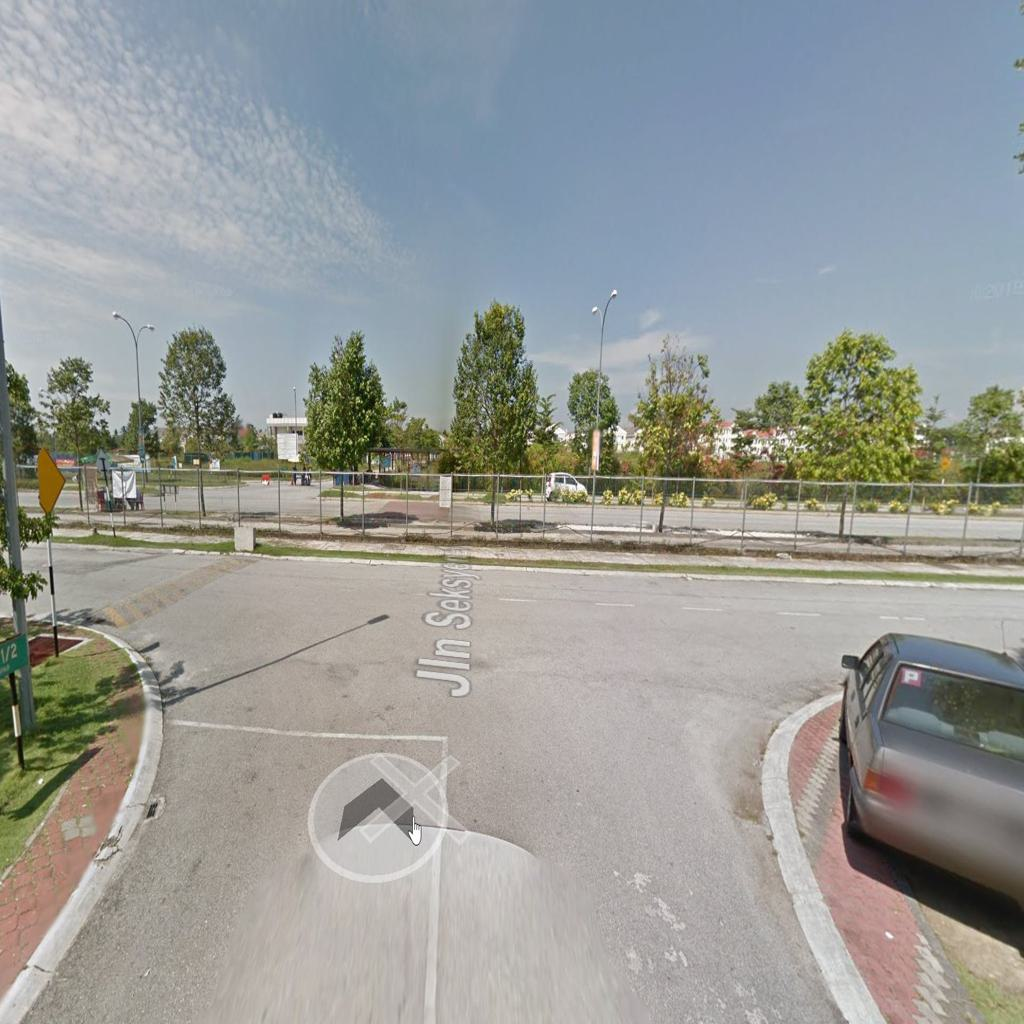Junction: (678, 559, 1014, 727), (17, 501, 264, 711)
